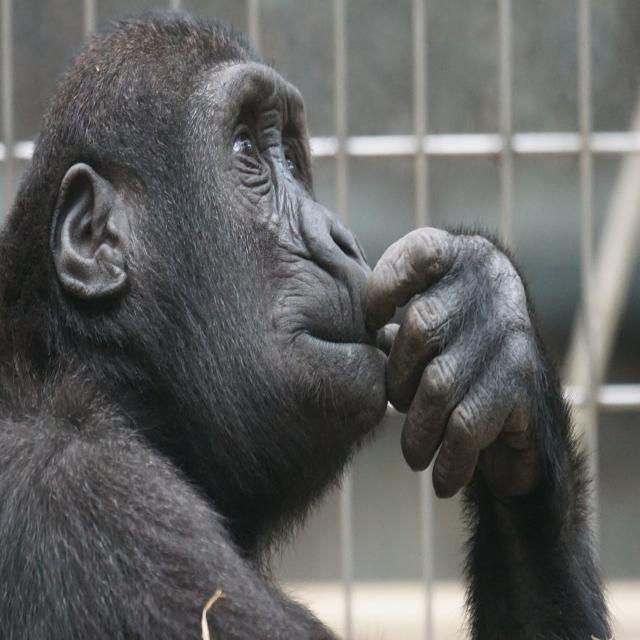Gorilla: (0, 19, 612, 640)
